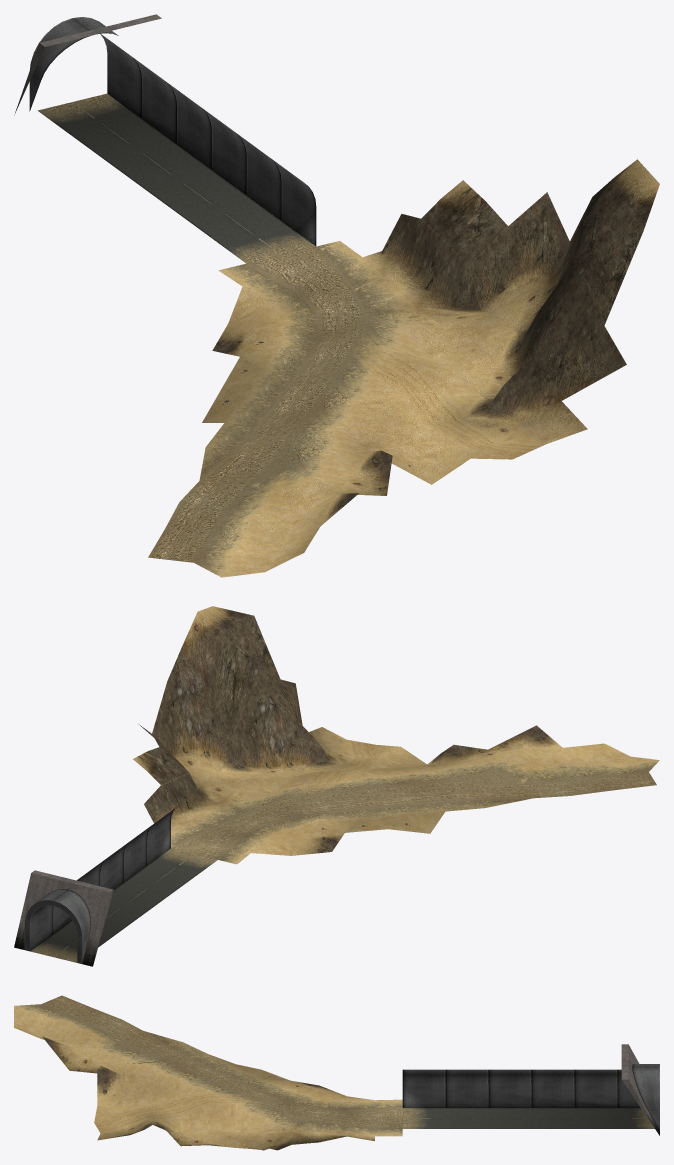
The model's file is Mis4_Tunnel02.glb.
The picture shows the model from 3 angles, top to bottom: view 1: azimuth 30°, elevation 25°; view 2: azimuth 150°, elevation 25°; view 3: azimuth 270°, elevation 25°; orthographic projection. The views are drawn at different scales.
Visible parts, largest first — view 1: MIS4_TUNNEL02; view 2: MIS4_TUNNEL02; view 3: MIS4_TUNNEL02.
Part boxes in pixels (x1,y1,x2,y2): MIS4_TUNNEL02: (14,14,659,577); MIS4_TUNNEL02: (14,606,659,966); MIS4_TUNNEL02: (14,995,659,1150).
Size of the model in its own units: 60 by 20.51 by 93.09.
Materials: 31 (31 with a texture image).
